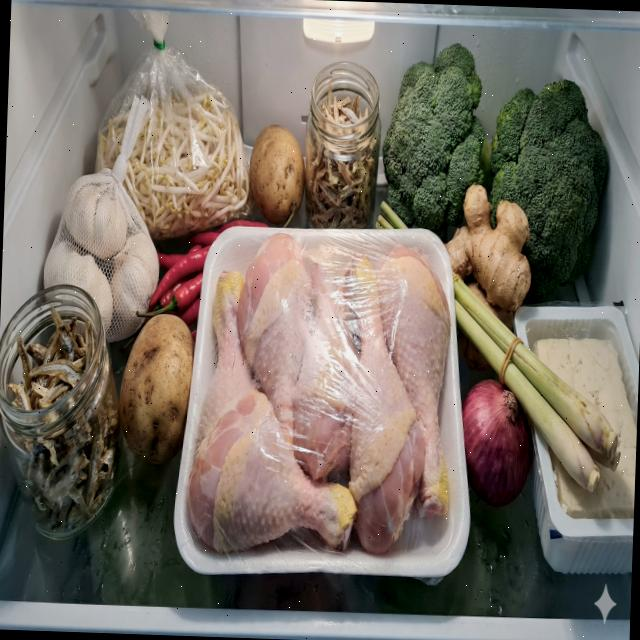anchovies: (2, 299, 123, 533), (304, 82, 382, 234)
bean_sprouts: (93, 88, 260, 244)
brocolli: (486, 76, 610, 305), (380, 40, 494, 234)
chicken: (184, 228, 458, 561)
chili: (147, 215, 268, 328)
garlic: (41, 170, 163, 340)
ginger: (442, 182, 534, 316)
lemongrass: (444, 268, 627, 496)
onion: (459, 378, 533, 504)
potato: (116, 312, 194, 468), (247, 123, 307, 226)
tofu: (528, 336, 640, 520)
